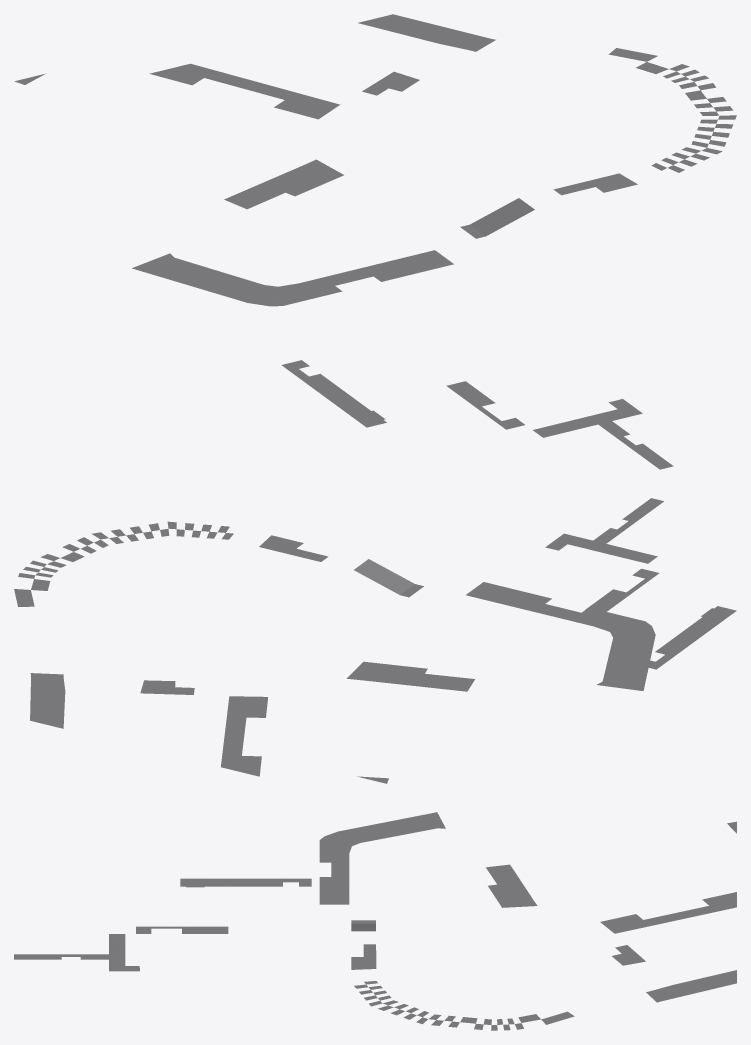
The model's file is kd_stage_1363c5_9_32_bounded.glb.
3 renders of one model, top to bottom at view 1: azimuth 30°, elevation 25°; view 2: azimuth 150°, elevation 25°; view 3: azimuth 270°, elevation 25°, orthographic. The views are drawn at different scales.
Parts seen in each view (by area): view 1: kd_stage_1363c5_9_32_bounded; view 2: kd_stage_1363c5_9_32_bounded; view 3: kd_stage_1363c5_9_32_bounded.
Boxes of the visible parts, left/top/right/bottom form: kd_stage_1363c5_9_32_bounded: left=14, top=14, right=736, bottom=469; kd_stage_1363c5_9_32_bounded: left=14, top=498, right=736, bottom=783; kd_stage_1363c5_9_32_bounded: left=14, top=812, right=736, bottom=1030.
Size of the model in its own units: 103 by 13.94 by 137.
Materials: 1 (1 with a texture image).
